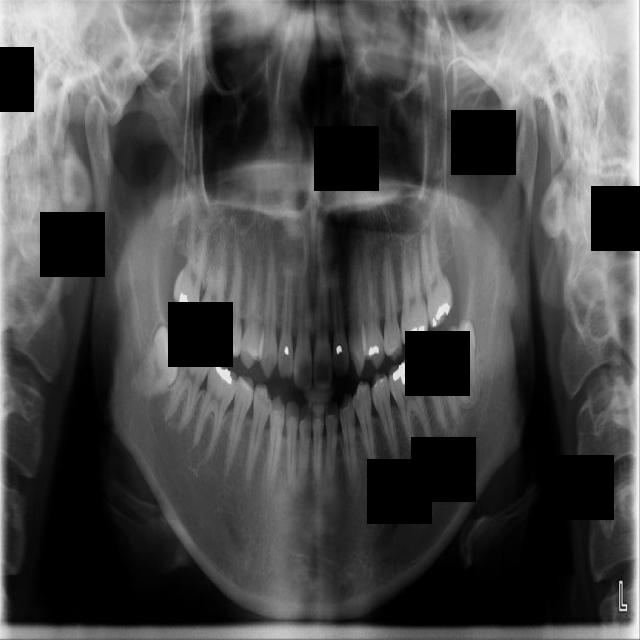52: (405, 327, 458, 382), (377, 349, 431, 401), (163, 267, 210, 326), (417, 275, 465, 331), (198, 351, 247, 405), (172, 328, 222, 378), (398, 303, 430, 351), (197, 299, 227, 348), (360, 329, 387, 371), (329, 340, 352, 379), (232, 373, 256, 410), (276, 341, 294, 379), (371, 373, 391, 407)
73: (576, 575, 582, 594)
BioHorizons Implant: (413, 210, 457, 330)
Biomet 3i Implant: (446, 316, 479, 407)
Blue Sky Bio Implant: (412, 330, 463, 436)
Caries: (169, 199, 217, 321)
Implant: (163, 329, 217, 435)
Keystone Dental Implant: (127, 322, 196, 405)
